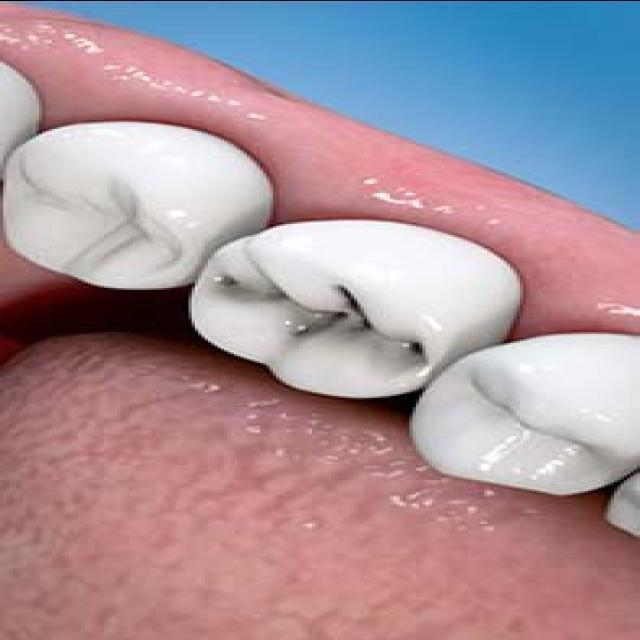caries: (211, 265, 424, 359)
